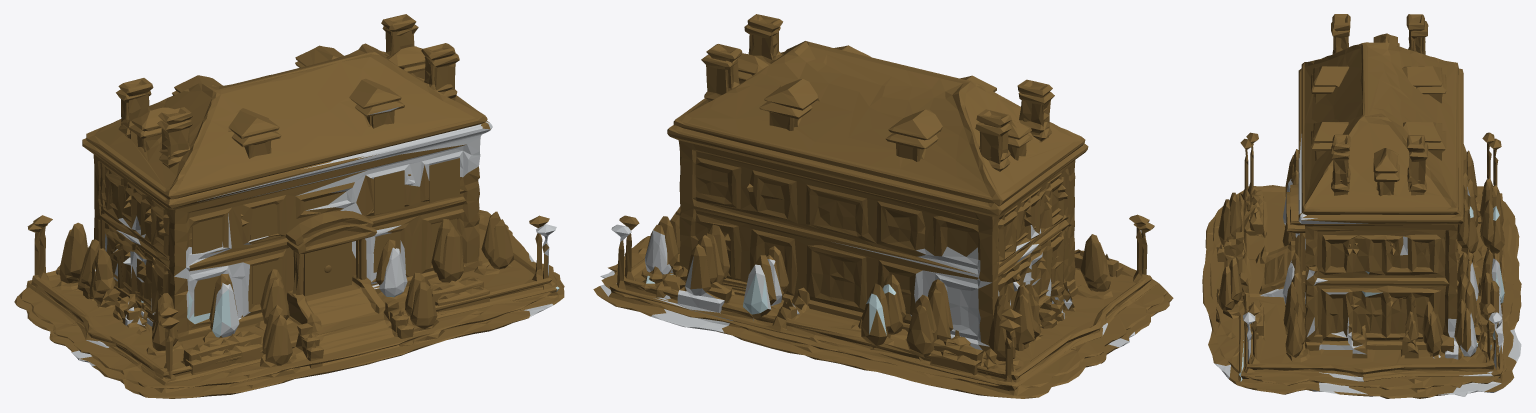
The model's file is Spectacular Kasi.glb.
3 views of the same model, side by side, from view 1: azimuth 30°, elevation 25°; view 2: azimuth 150°, elevation 25°; view 3: azimuth 270°, elevation 25° (orthographic). The views are drawn at different scales.
Visible parts, largest first — view 1: Mesh_Mesh_head_geo.001_lambert2SG.001; view 2: Mesh_Mesh_head_geo.001_lambert2SG.001; view 3: Mesh_Mesh_head_geo.001_lambert2SG.001.
Boxes of the visible parts, x1,y1,x2,y2 form: Mesh_Mesh_head_geo.001_lambert2SG.001: (14,14,564,398); Mesh_Mesh_head_geo.001_lambert2SG.001: (593,14,1173,398); Mesh_Mesh_head_geo.001_lambert2SG.001: (1202,14,1521,398).
Bounding box in the file's own units: 195 × 93 × 125.
